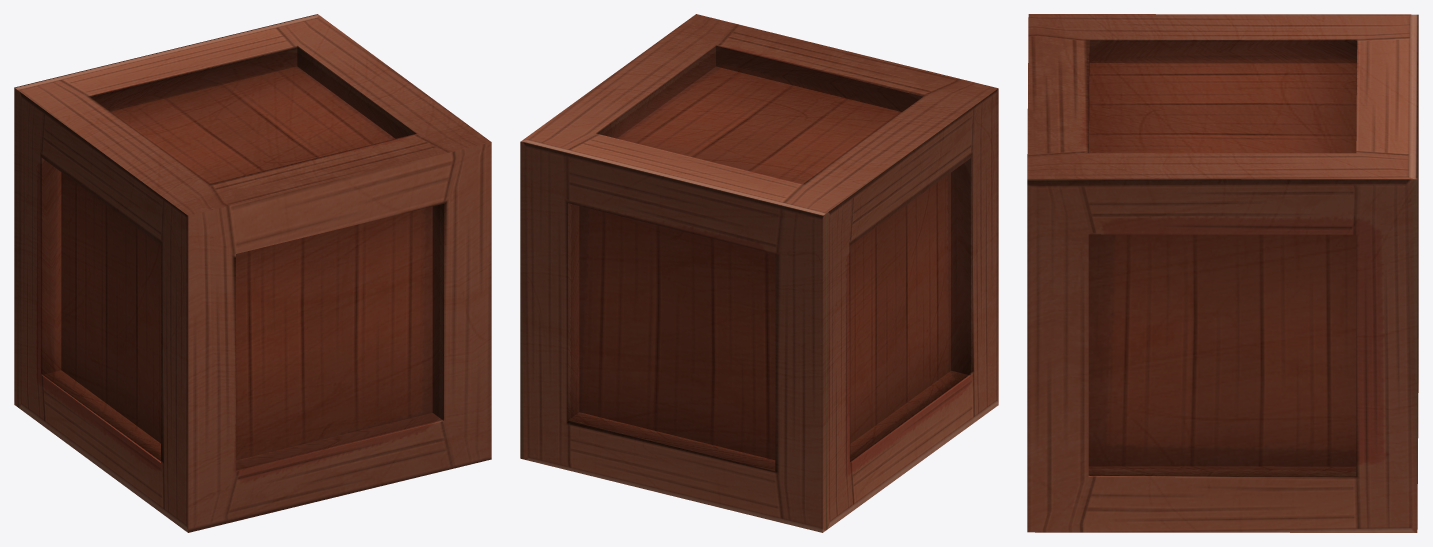
Rendered from WoodCrate.fbx.
3 renders of one model, left to right at view 1: azimuth 30°, elevation 25°; view 2: azimuth 150°, elevation 25°; view 3: azimuth 270°, elevation 25°, orthographic. The views are drawn at different scales.
Visible parts, largest first — view 1: Cube; view 2: Cube; view 3: Cube.
Boxes of the visible parts, x1,y1,x2,y2 form: Cube: (14, 14, 491, 532); Cube: (520, 14, 998, 532); Cube: (1027, 14, 1418, 532).
Bounding box in the file's own units: 100 × 100 × 100.
1 material, 1 textured.
